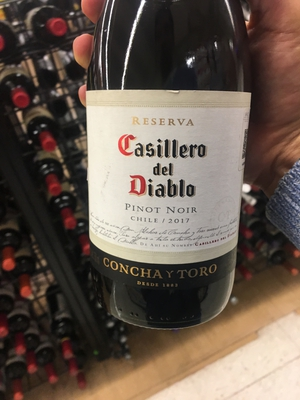casillero del diablo pinot noir: (69, 2, 267, 347)
